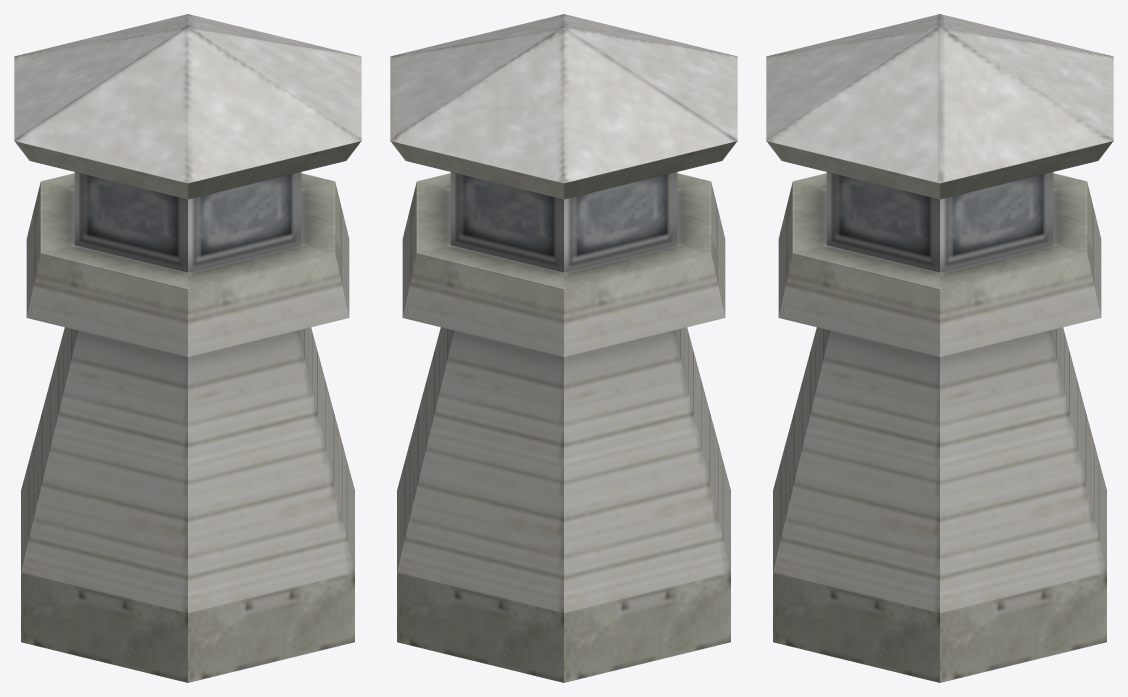
Rendered from Control_tower001.fbx.
The picture shows the model from 3 angles, left to right: view 1: azimuth 30°, elevation 25°; view 2: azimuth 150°, elevation 25°; view 3: azimuth 270°, elevation 25°; orthographic projection.
Parts seen in each view (by area): view 1: Control_tower001; view 2: Control_tower001; view 3: Control_tower001.
Part boxes in pixels (x1,y1,x2,y2): Control_tower001: (14,14,361,682); Control_tower001: (390,14,737,682); Control_tower001: (766,14,1113,682).
Size of the model in its own units: 0.8761 by 1.38 by 0.7587.
